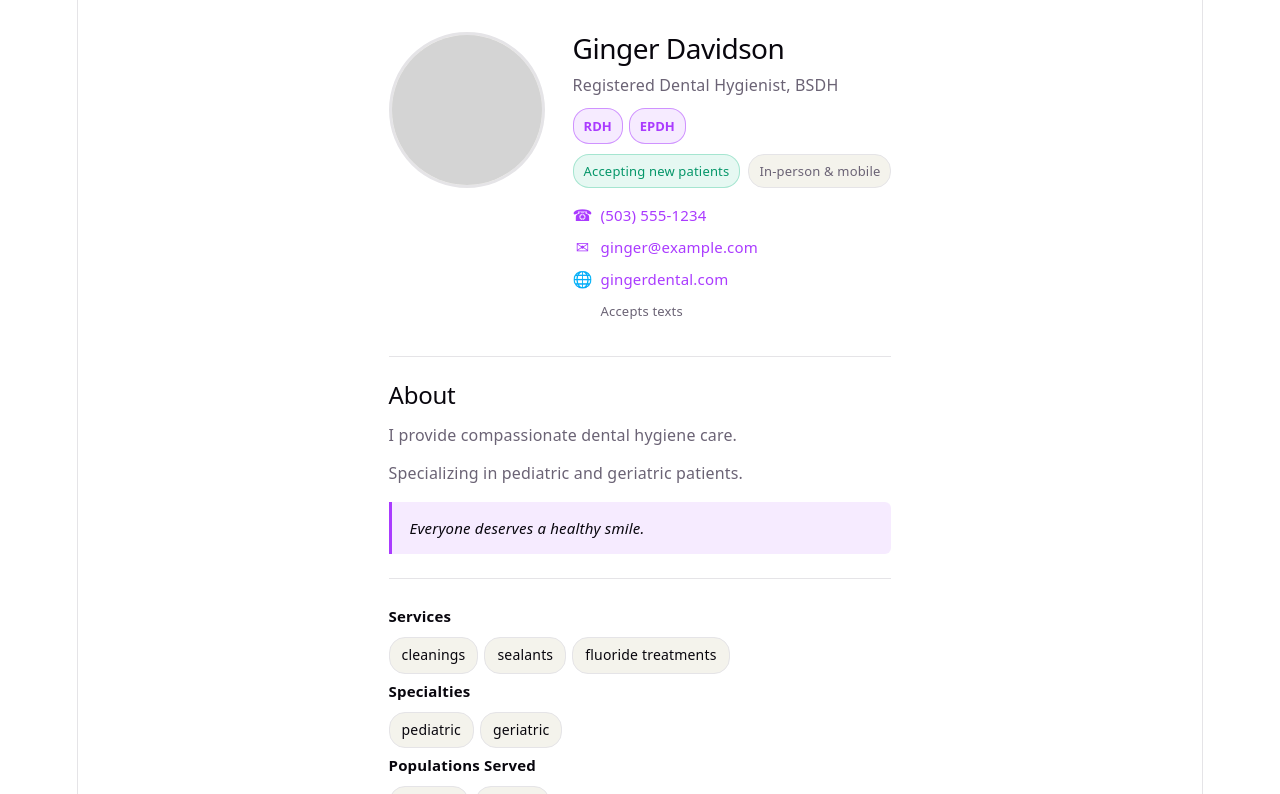
Profile page › closes credential popover on second click
Expected: the heading "Ginger Davidson" is shown, [572,29,784,67]
Step 1. Click the button "EPDH" → coordinates (657, 126), box [629,108,686,144]
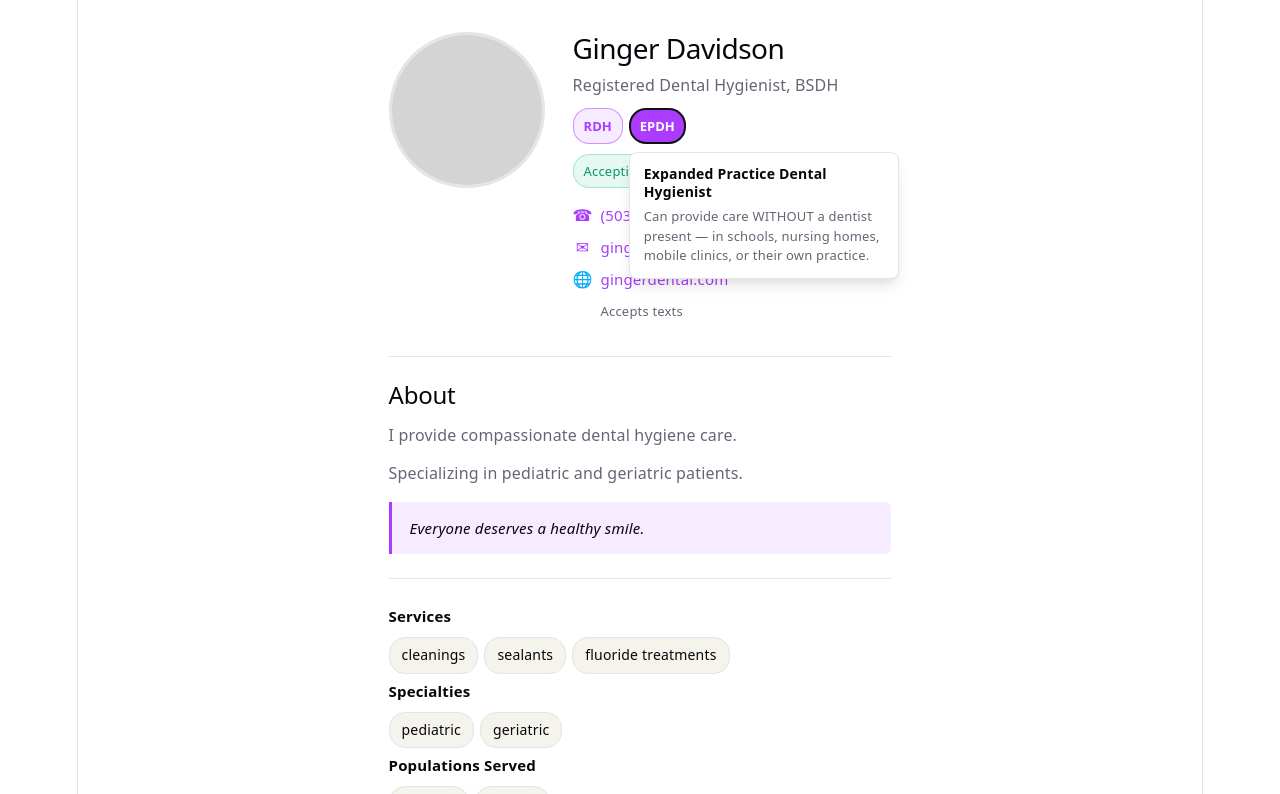
Now the text "Expanded Practice Dental Hygienist" is shown, box [644,164,827,201]
Step 2. Click the button "EPDH" → coordinates (657, 126), box [629,108,686,144]
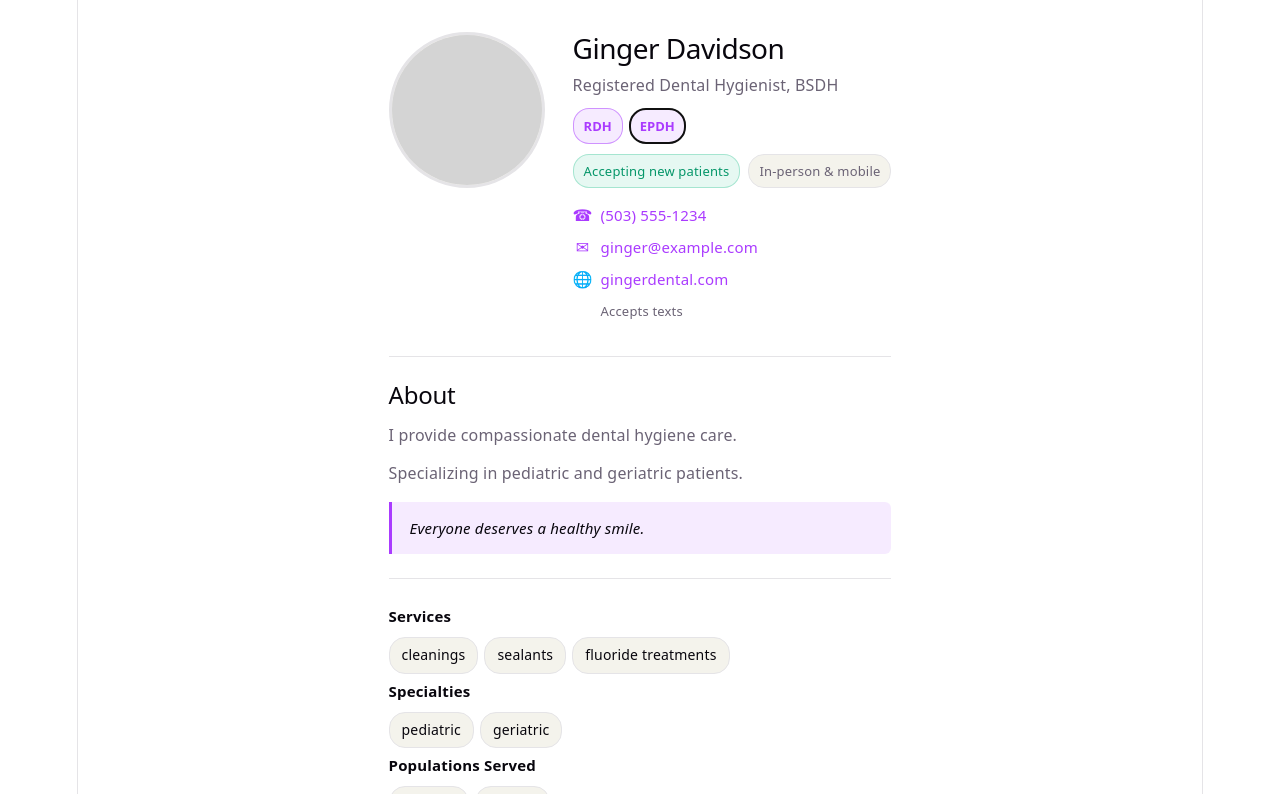
Now the text "Expanded Practice Dental Hygienist" is gone
